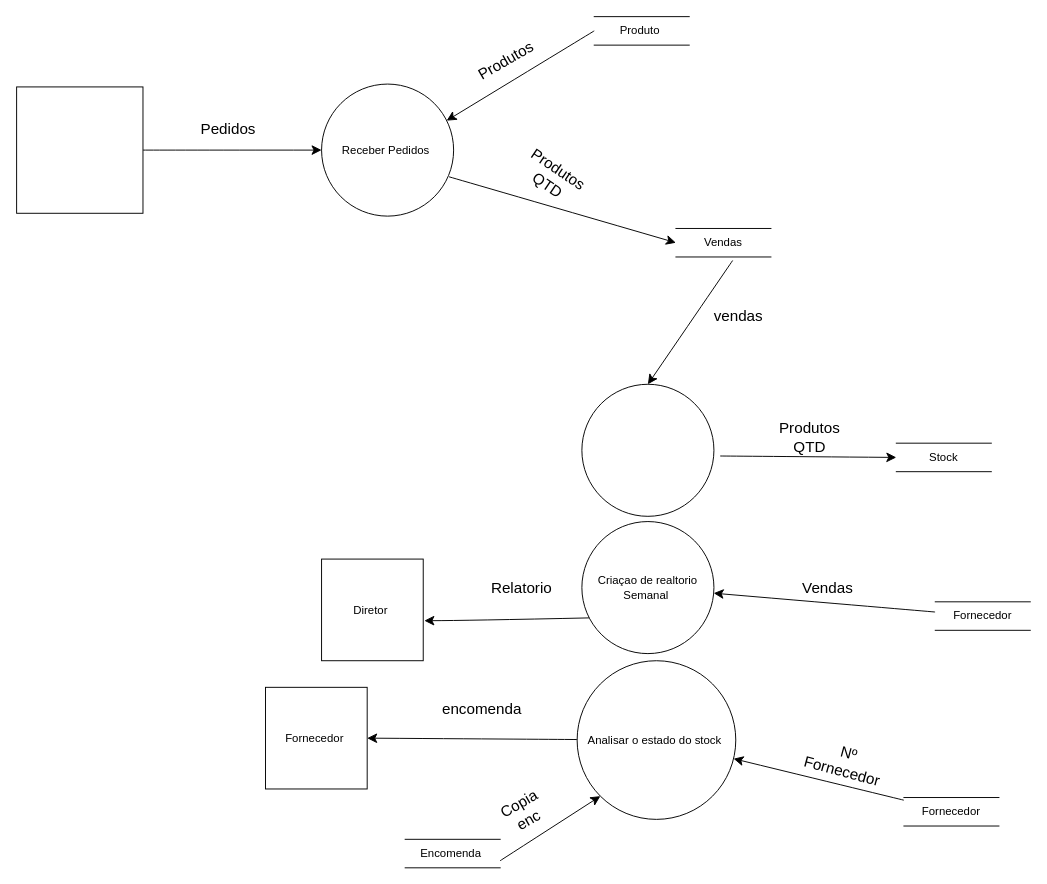
The diagram is 1047 pixels wide and 884 high, and some of its shapes have lost their labels. Here are the shapes that lost their labels. From the top down, the box of each, then its label:
(16, 86, 143, 213): Cliente
(581, 383, 714, 516): Atualizar Stock
